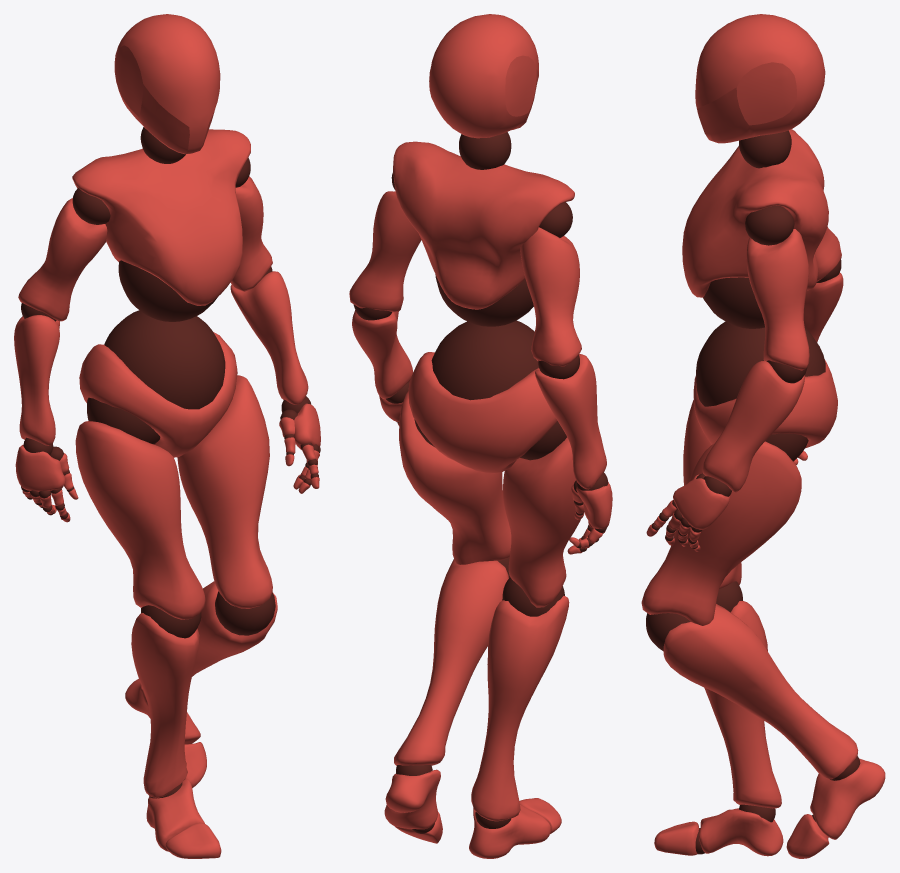
File: walking.obj
3 views of the same model, side by side, from view 1: azimuth 30°, elevation 25°; view 2: azimuth 150°, elevation 25°; view 3: azimuth 270°, elevation 25° (orthographic). The views are drawn at different scales.
Parts seen in each view (by area): view 1: Beta_Surface, Beta_Joints; view 2: Beta_Surface, Beta_Joints; view 3: Beta_Surface, Beta_Joints.
Part boxes in pixels (x1,y1,x2,y2): Beta_Surface: (14, 14, 320, 858); Beta_Joints: (21, 127, 320, 798); Beta_Surface: (349, 14, 612, 858); Beta_Joints: (353, 132, 608, 833); Beta_Surface: (641, 14, 885, 858); Beta_Joints: (646, 130, 860, 854).
Bounding box in the file's own units: 0.6001 × 1.79 × 0.4719.
